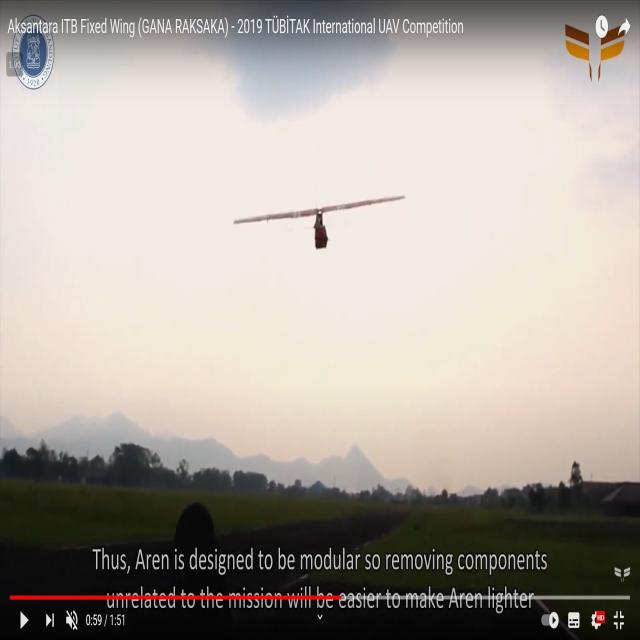iha: (232, 193, 408, 252)
